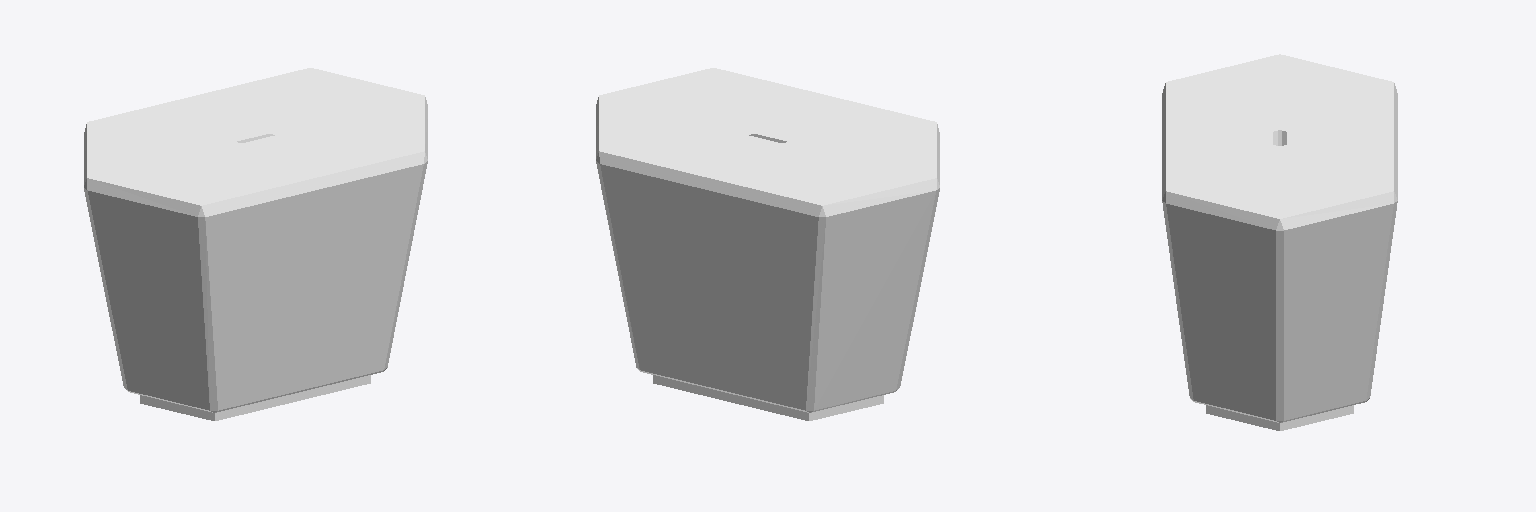
The model's file is tablesmall_2.obj.
3 views of the same model, side by side, from view 1: azimuth 30°, elevation 25°; view 2: azimuth 150°, elevation 25°; view 3: azimuth 270°, elevation 25° (orthographic).
Visible parts, largest first — view 1: Mesh62_Group68_Group67_Model.1; view 2: Mesh62_Group68_Group67_Model.1; view 3: Mesh62_Group68_Group67_Model.1.
Boxes of the visible parts, box(x1,y1,x2,y2) form: Mesh62_Group68_Group67_Model.1: box(84, 68, 427, 420); Mesh62_Group68_Group67_Model.1: box(596, 68, 939, 420); Mesh62_Group68_Group67_Model.1: box(1162, 54, 1397, 430).
Size of the model in its own units: 49.9 by 33.38 by 29.89.